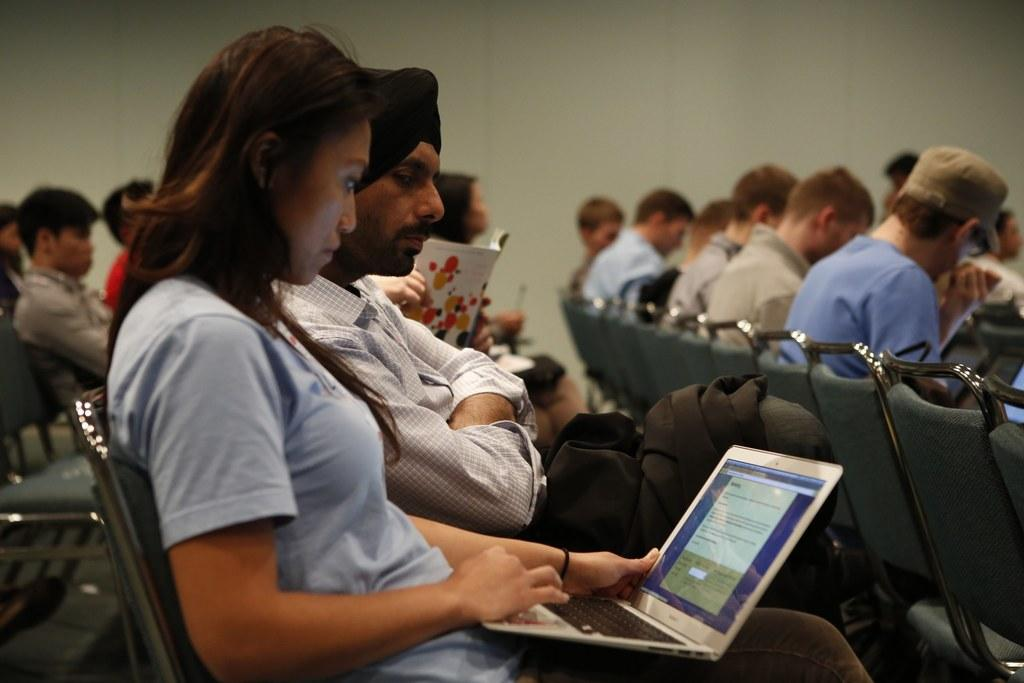Laptop: (466, 441, 839, 669)
